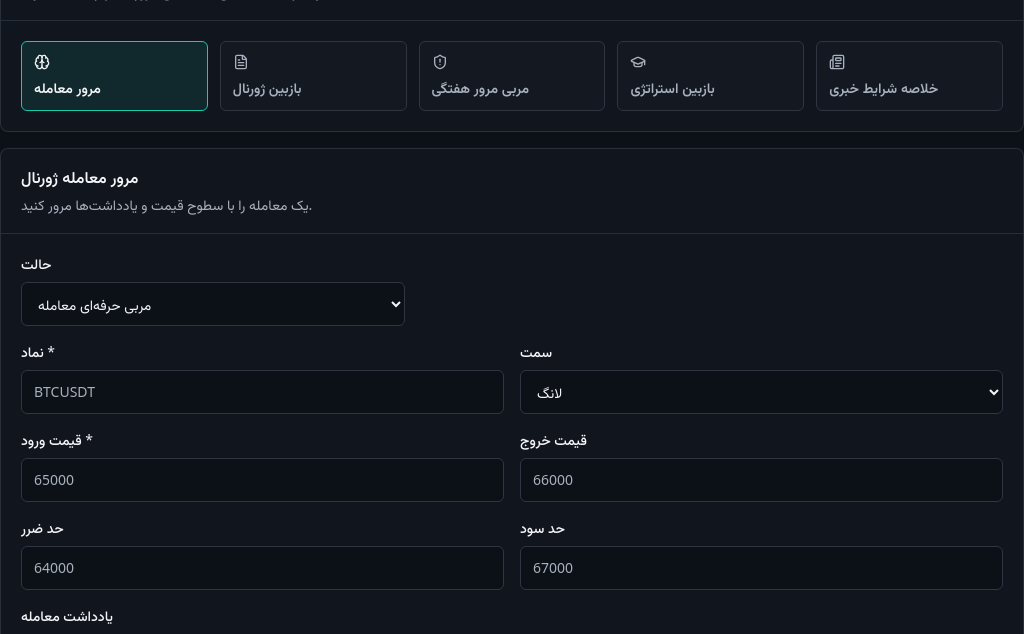
Test: AiAssistantScreen language › names the rejected fields in Persian when the trade form is refused as invalid
(page scrolled)
Type "EURUSD" into the field named "symbol" at (262, 392), box [21,370,504,414]
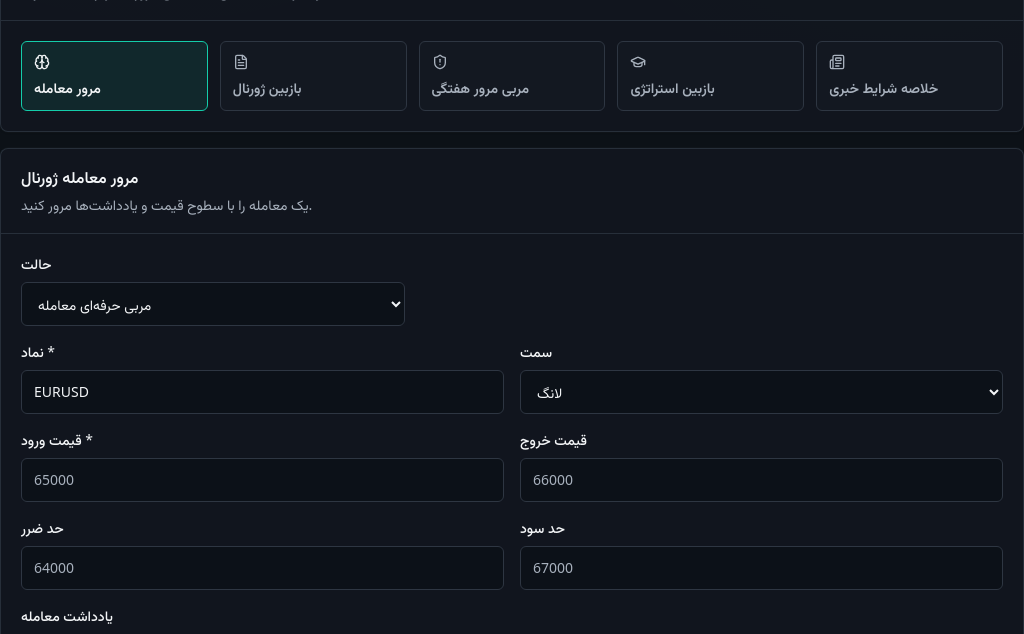
Type "1.1" into the field named "entryPrice" at (262, 480), box [21,458,504,502]
(page scrolled)
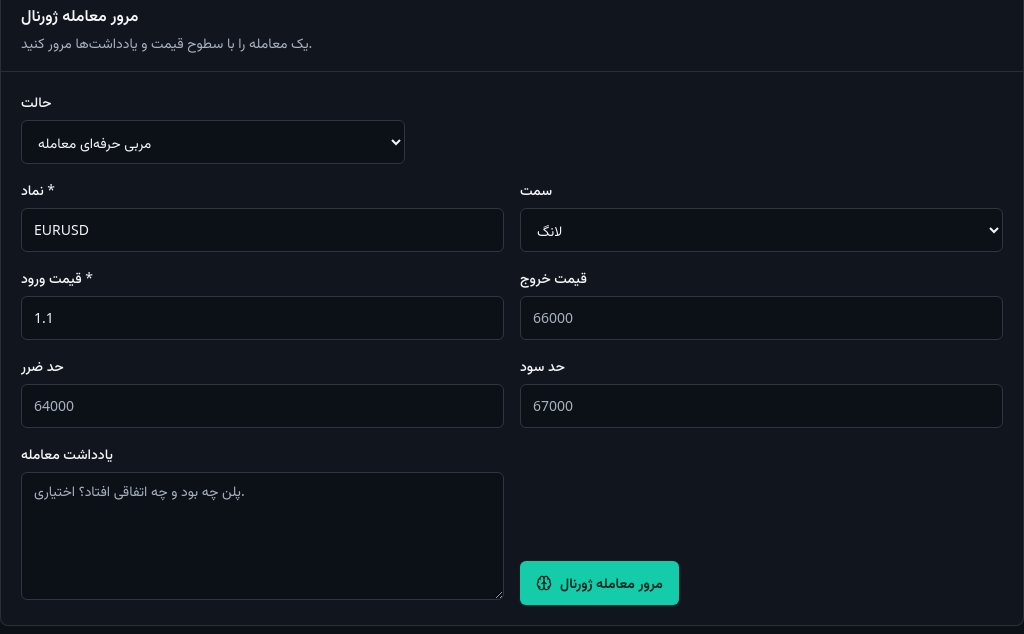
Submit the form
(page scrolled)
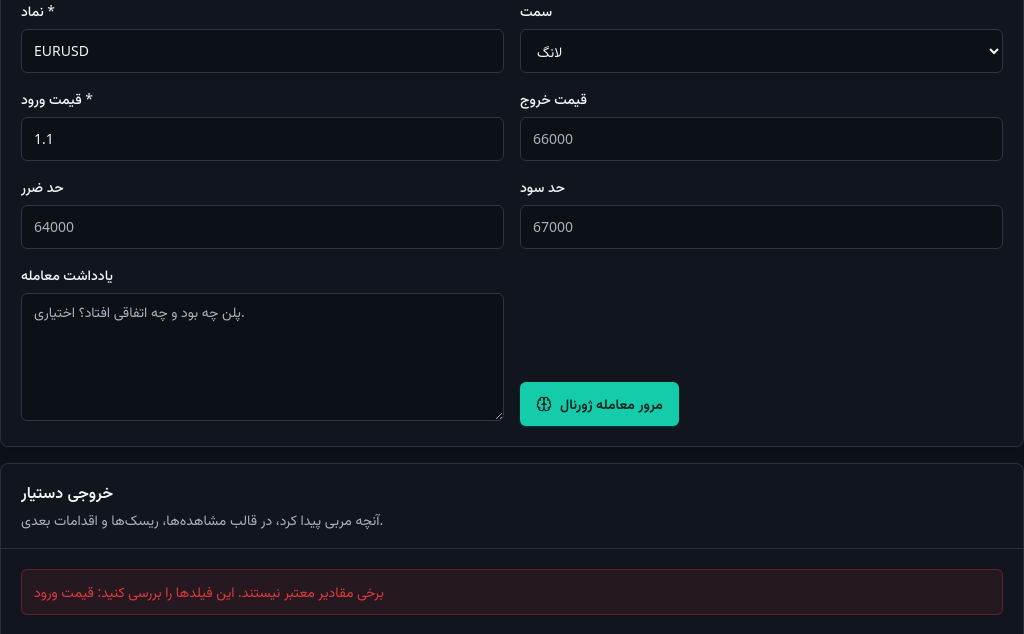
Check: the text "برخی مقادیر معتبر نیستند. این فیلدها را بررسی کنید: قیمت ورود" is shown, box [21,569,1003,615]
